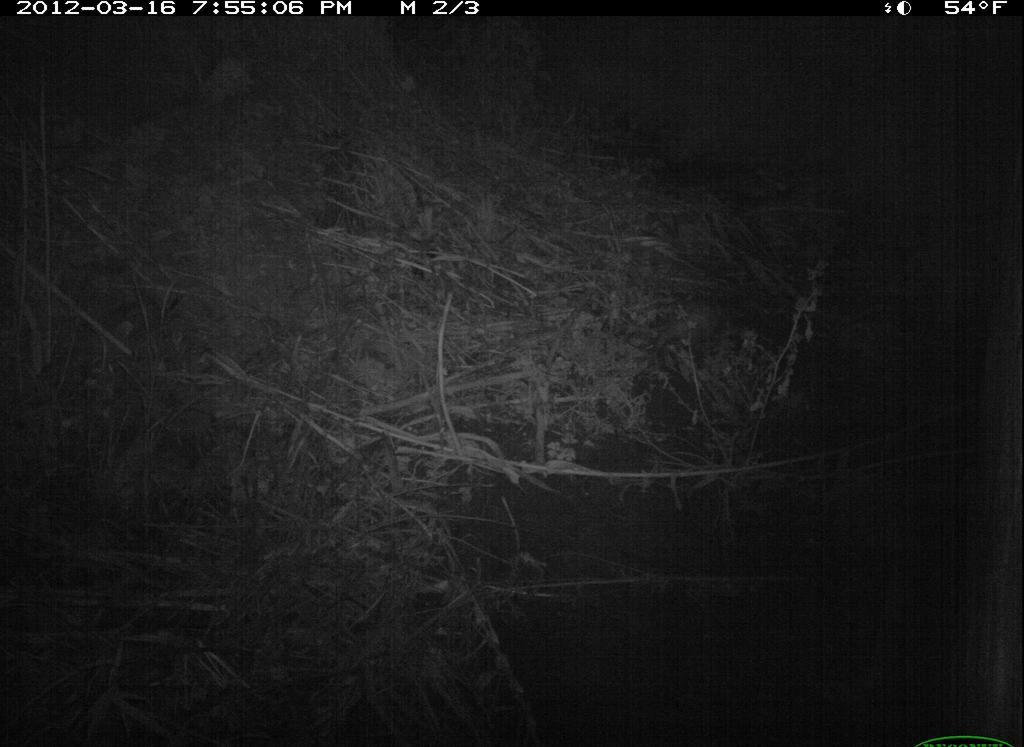opossum: (652, 291, 730, 371)
